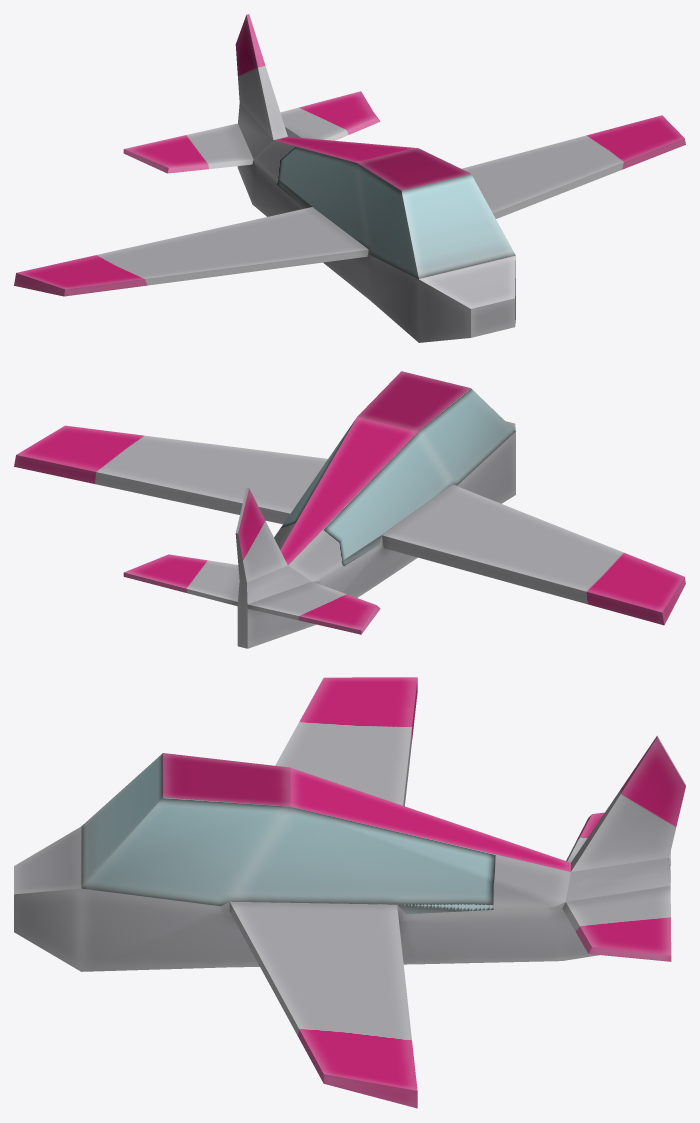
The model's file is ucak.FBX.
3 views of the same model, one above another, from view 1: azimuth 30°, elevation 25°; view 2: azimuth 150°, elevation 25°; view 3: azimuth 270°, elevation 25° (orthographic). The views are drawn at different scales.
Visible parts, largest first — view 1: Box001; view 2: Box001; view 3: Box001.
Boxes of the visible parts, x1,y1,x2,y2 form: Box001: (14,14,685,342); Box001: (14,371,685,648); Box001: (14,677,685,1108).
Size of the model in its own units: 8.21 by 1.88 by 5.6.
Materials: 1 (1 with a texture image).
